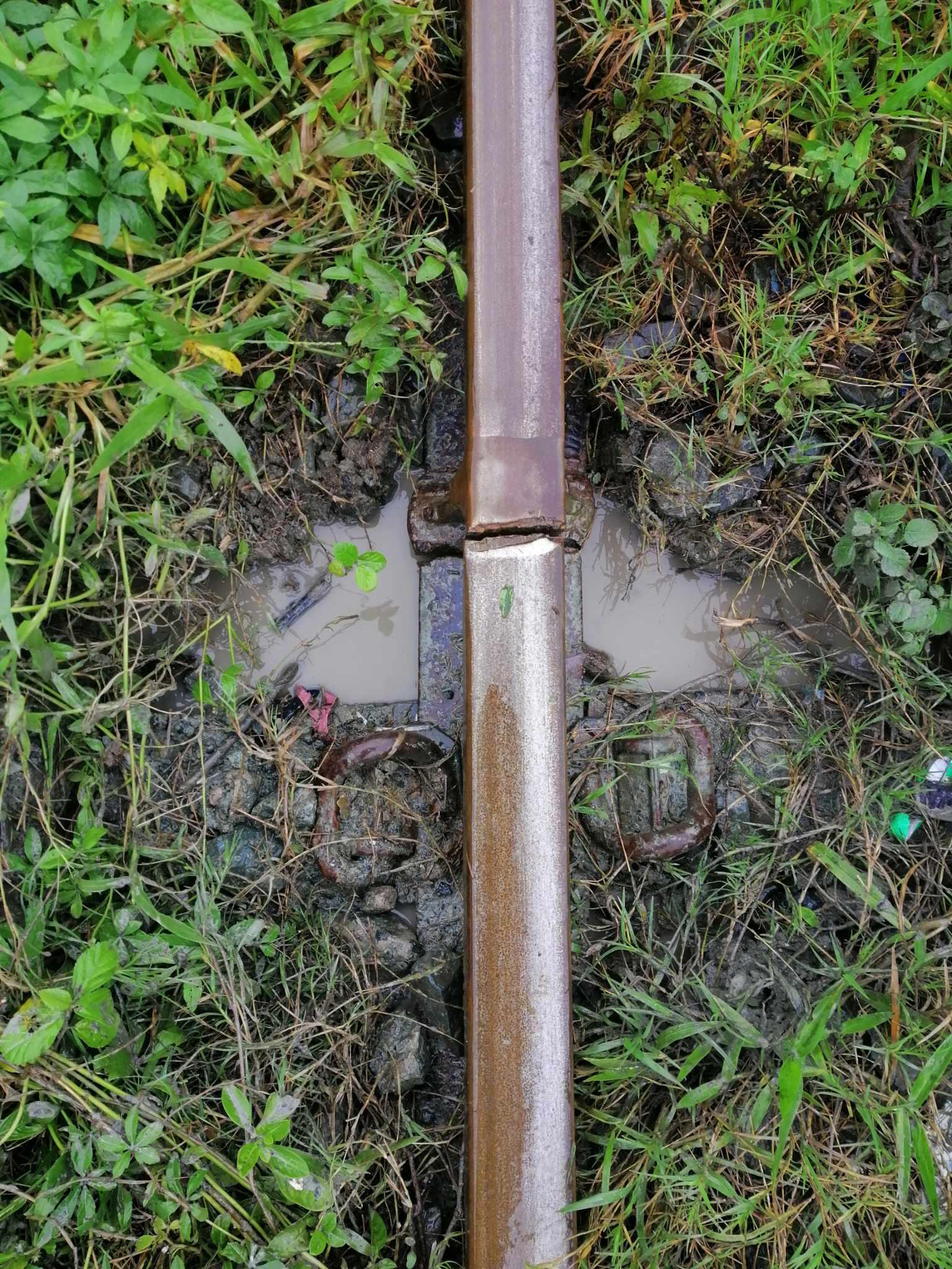railway-gap: (419, 450, 600, 615)
